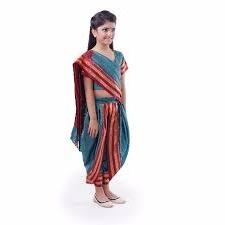Human: (71, 12, 134, 213)
